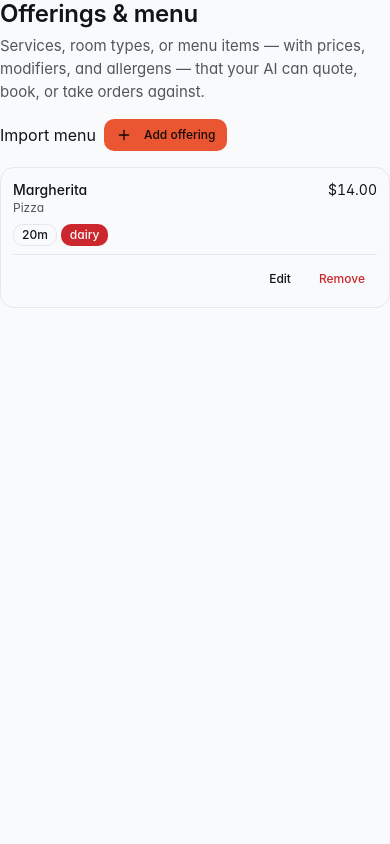
Test: Setup → Offerings dialog (QA-1 F-1) › opens the Edit dialog prefilled with modifiers
This screenshot has width=390, height=844.
Click the button with aria-label "Edit Margherita" at (280, 279), box x1=257 y1=263 x2=303 y2=295
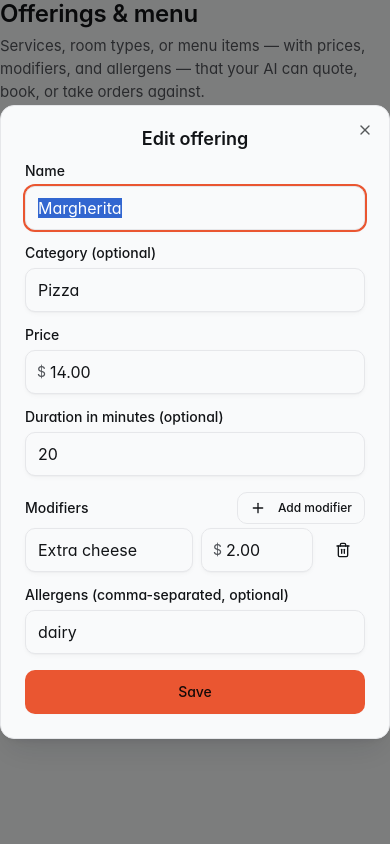
Now the 1st field showing "Extra cheese" is shown, box x1=25 y1=528 x2=193 y2=572
Now the text "Modifiers" is shown, box x1=25 y1=501 x2=88 y2=515
